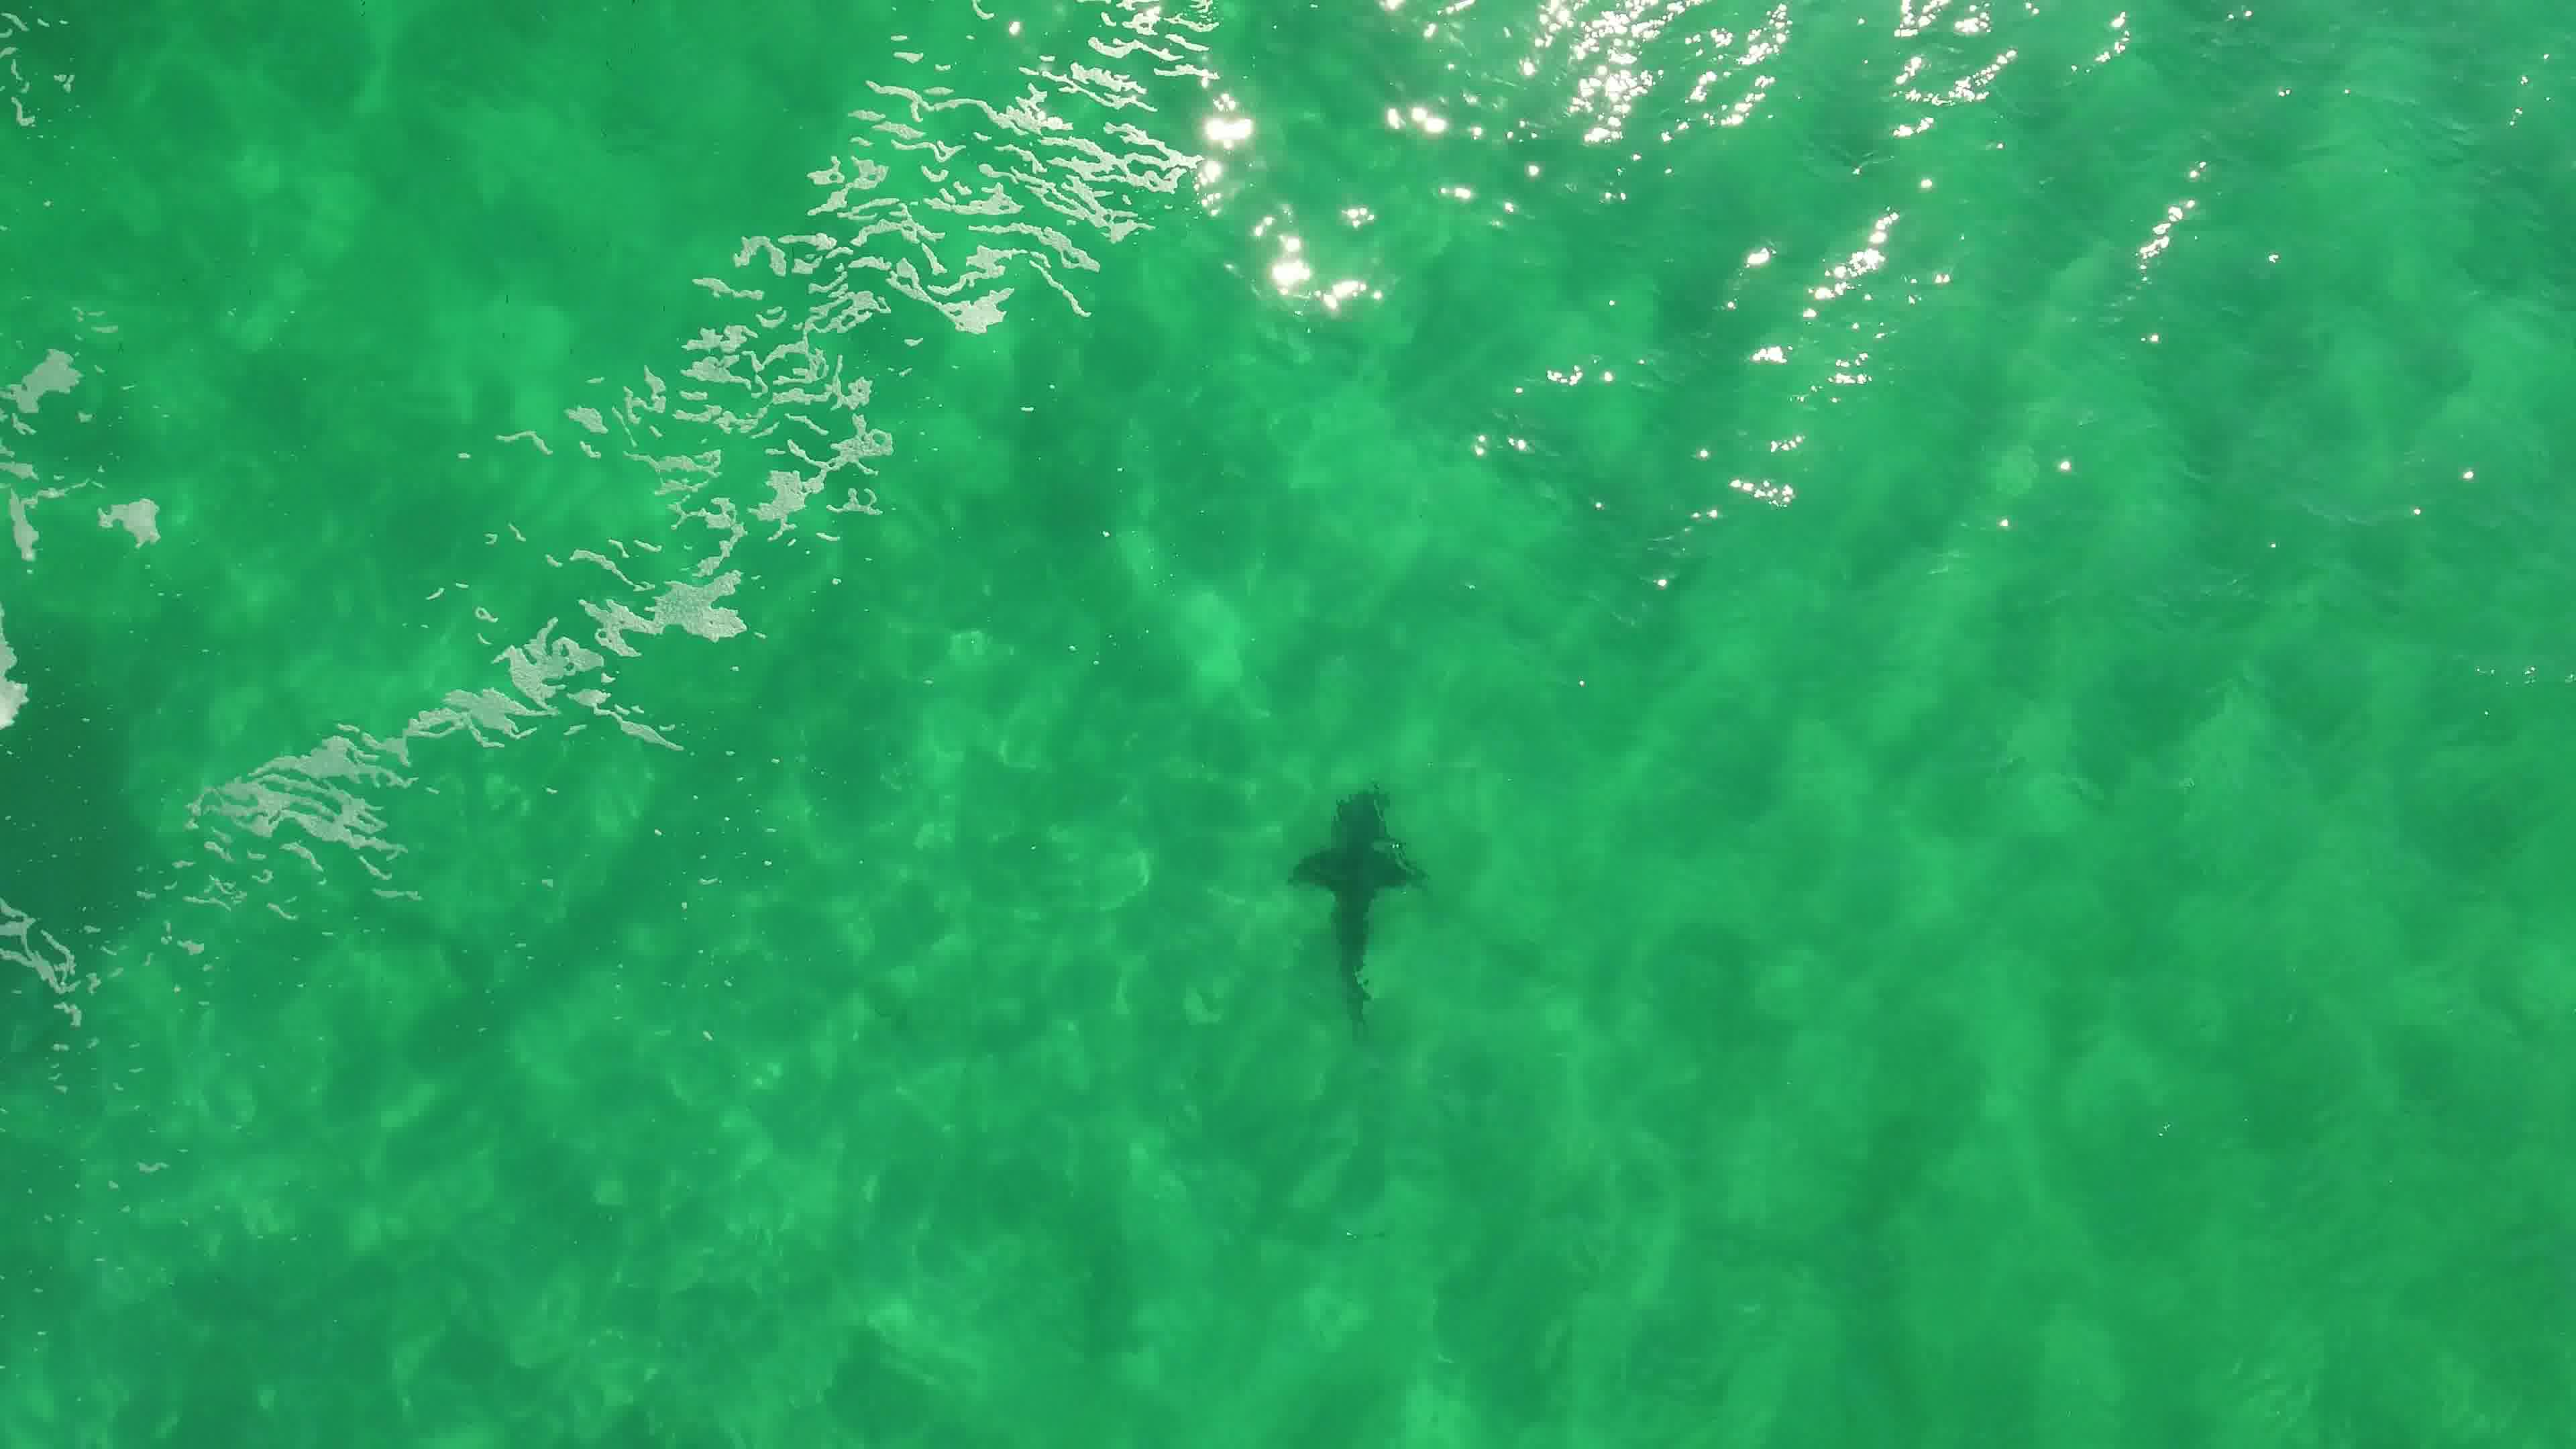shark: (1279, 773, 1435, 1030)
